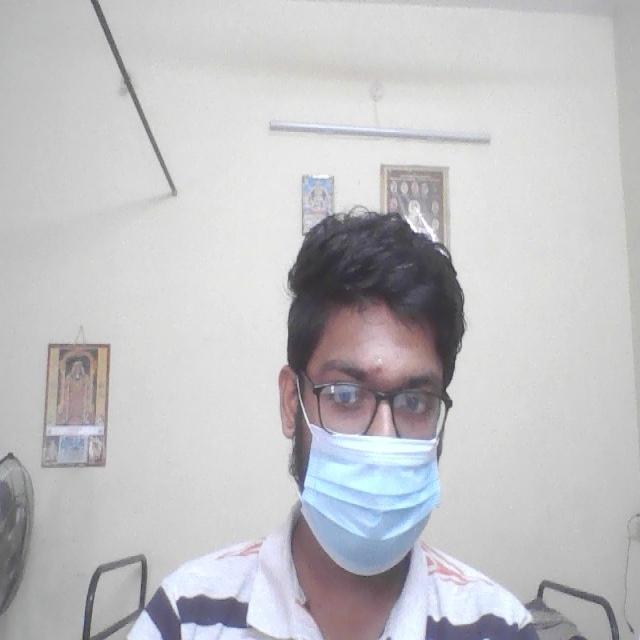Focused: (273, 297, 460, 550)
